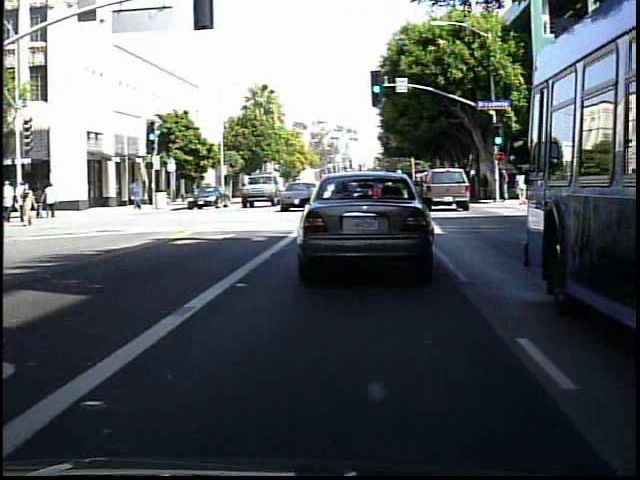person: (21, 182, 39, 228), (23, 180, 40, 224), (495, 166, 513, 207), (4, 181, 20, 226), (43, 180, 61, 220), (129, 176, 147, 213), (35, 183, 49, 219), (479, 169, 492, 202)
